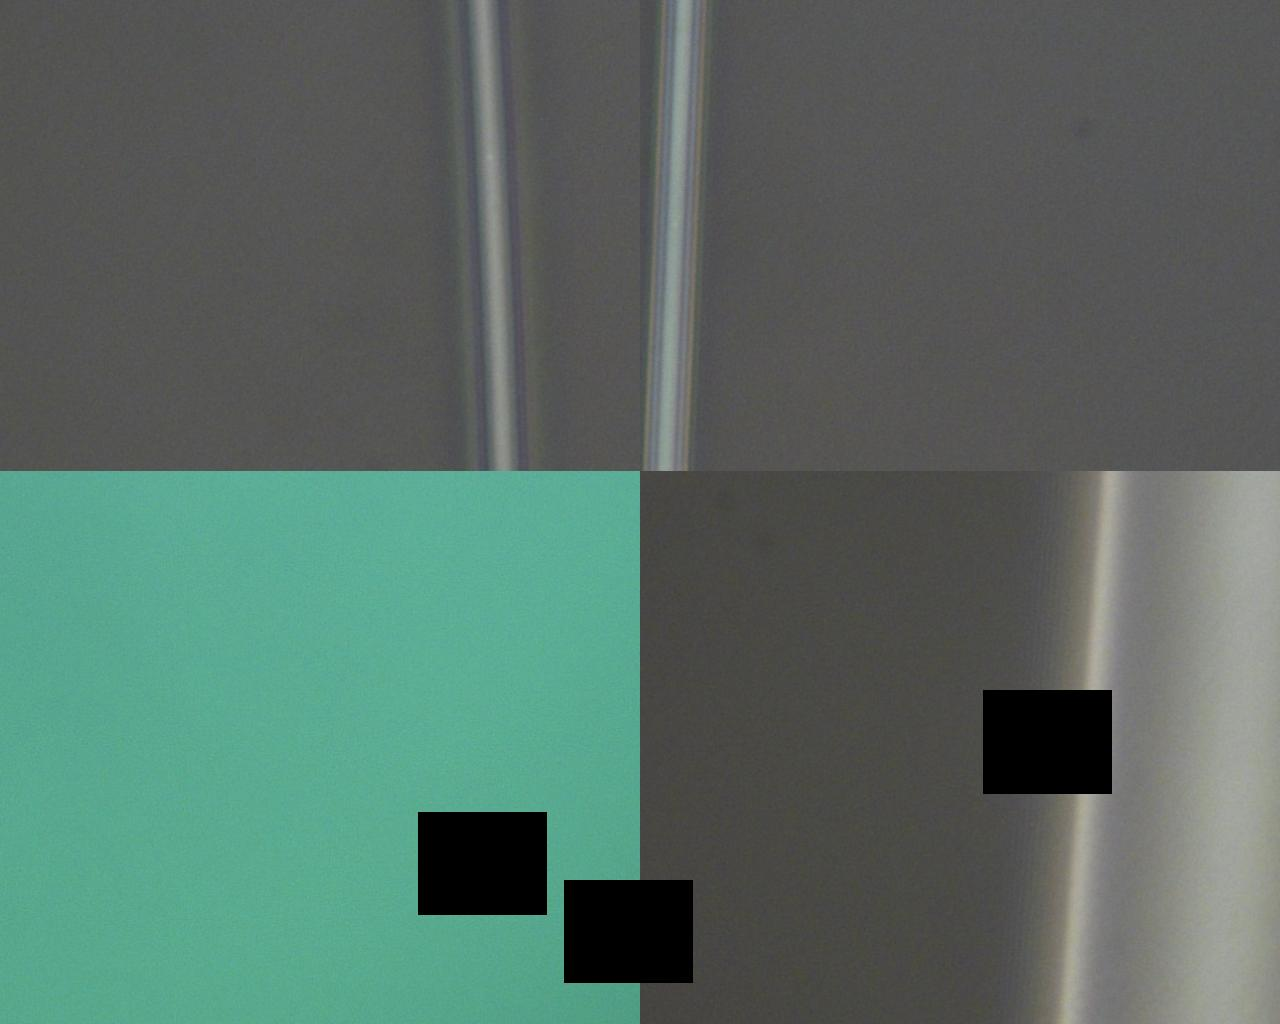fiber: (626, 0, 782, 1024)
